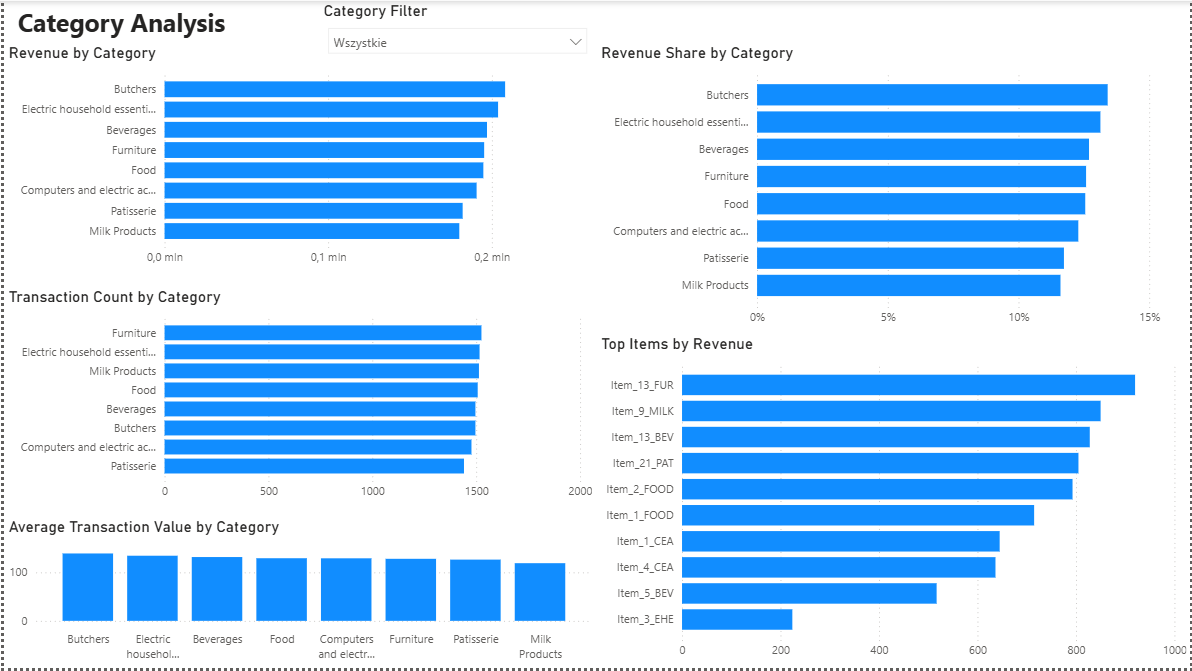

The page's visual inventory and layout, read from the dashboard file:
{"tool":"powerbi","page":{"name":"Category Analysis","canvas":[1280,720],"ordinal":2},"visuals":[{"type":"textbox","box":[9.7,0,242.9,45.3],"z":0},{"type":"barChart","title":"Revenue by Category","fields":{"Category":["retail_store_sales_clean.category"],"Y":["retail_store_sales_clean.Total Revenue"]},"box":[0,45.3,639.6,249.4],"z":1000},{"type":"barChart","title":"Transaction Count by Category","fields":{"Category":["retail_store_sales_clean.category"],"Y":["retail_store_sales_clean.Transaction Count"]},"box":[0,309.3,639.6,238],"z":2000},{"type":"columnChart","title":"Average Transaction Value by Category","fields":{"Category":["retail_store_sales_clean.category"],"Y":["retail_store_sales_clean.Average Transaction Value"]},"box":[0,556.4,639.7,162.8],"z":3000},{"type":"barChart","title":"Revenue Share by Category","fields":{"Category":["retail_store_sales_clean.category"],"Y":["DimDate.Category Revenue Share %"]},"box":[639.7,45.4,641.6,314.2],"z":4000},{"type":"barChart","title":"Top Items by Revenue","fields":{"Category":["retail_store_sales_clean.item"],"Y":["retail_store_sales_clean.Total Revenue"]},"box":[639.7,359.6,641.6,359.6],"z":5000},{"type":"slicer","title":"Category Filter","fields":{"Values":["retail_store_sales_clean.category"]},"box":[340,0,299.6,69.6],"z":5001}]}

Visuals, with their boxes in screenshot pixels (x1, y1, x2, y2), scaled from the page's 1280x720 canvas onto the 1192x671 screenshot:
textbox: (9,0,235,42)
"Revenue by Category" barChart: (0,42,596,275)
"Transaction Count by Category" barChart: (0,288,596,510)
"Average Transaction Value by Category" columnChart: (0,519,596,670)
"Revenue Share by Category" barChart: (596,42,1191,335)
"Top Items by Revenue" barChart: (596,335,1191,670)
"Category Filter" slicer: (317,0,596,65)
